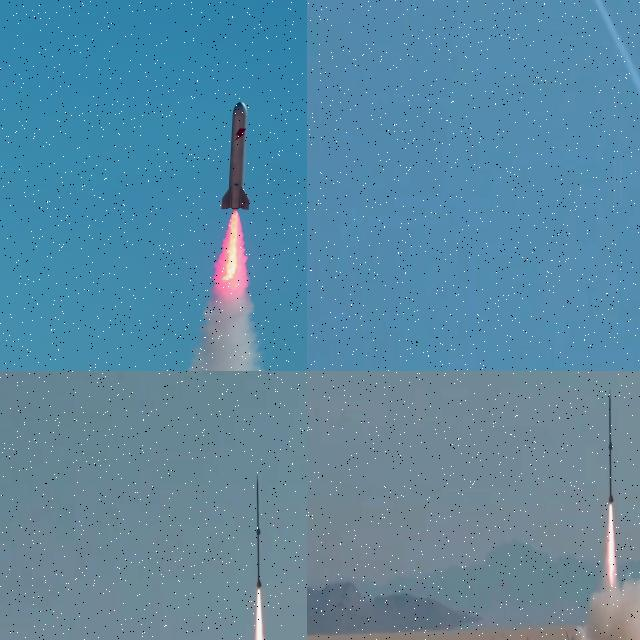Rocket: (209, 98, 261, 218), (256, 475, 262, 589), (608, 388, 613, 504)
